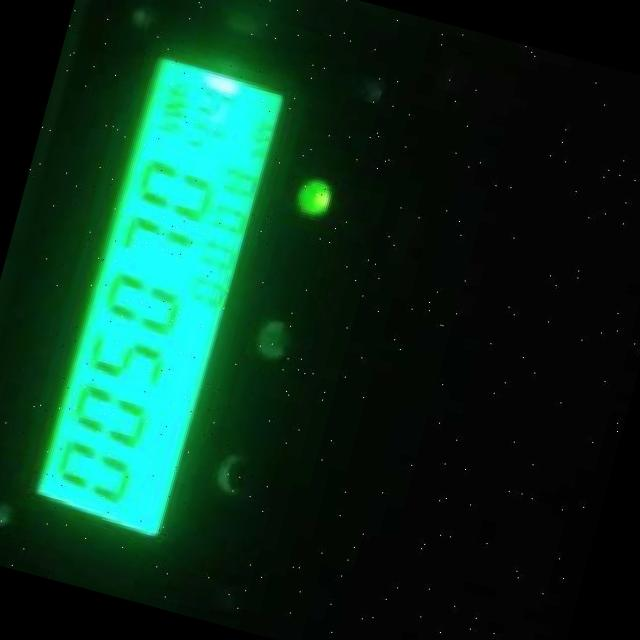LCD: (15, 21, 318, 554)
